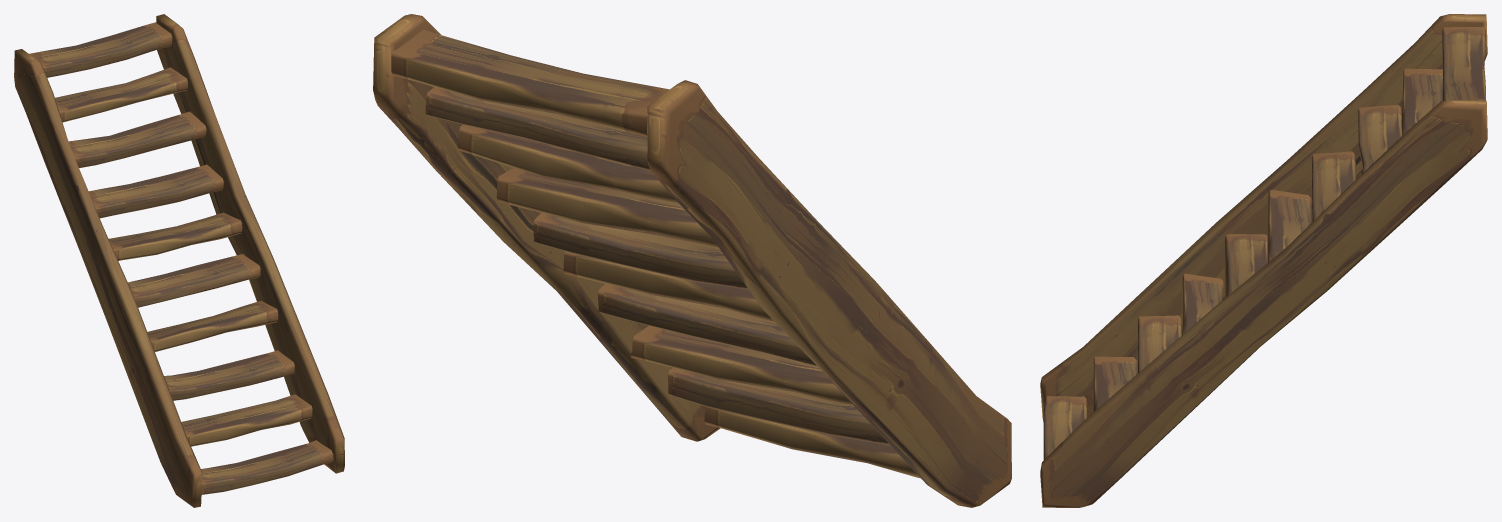
The model's file is SM_MOD_stairs_town_03_01.fbx.
The picture shows the model from 3 angles, left to right: view 1: azimuth 30°, elevation 25°; view 2: azimuth 150°, elevation 25°; view 3: azimuth 270°, elevation 25°; orthographic projection. The views are drawn at different scales.
Visible parts, largest first — view 1: SM_MOD_stairs_town_03_01_LOD0; view 2: SM_MOD_stairs_town_03_01_LOD0; view 3: SM_MOD_stairs_town_03_01_LOD0.
Part boxes in pixels (x1,y1,x2,y2): SM_MOD_stairs_town_03_01_LOD0: (14,14,344,507); SM_MOD_stairs_town_03_01_LOD0: (373,14,1011,507); SM_MOD_stairs_town_03_01_LOD0: (1040,14,1487,507).
Size of what is drawn, in the model's own units: 98.84 by 199 by 199.
